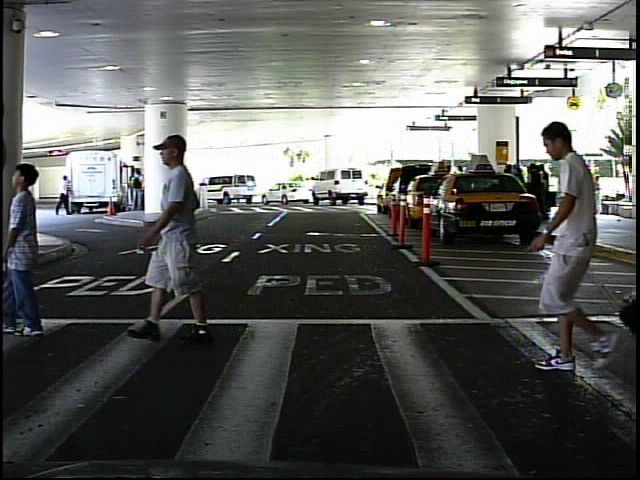person: (500, 114, 615, 380), (147, 129, 226, 342), (7, 156, 65, 345), (54, 171, 75, 221), (588, 172, 607, 218)
